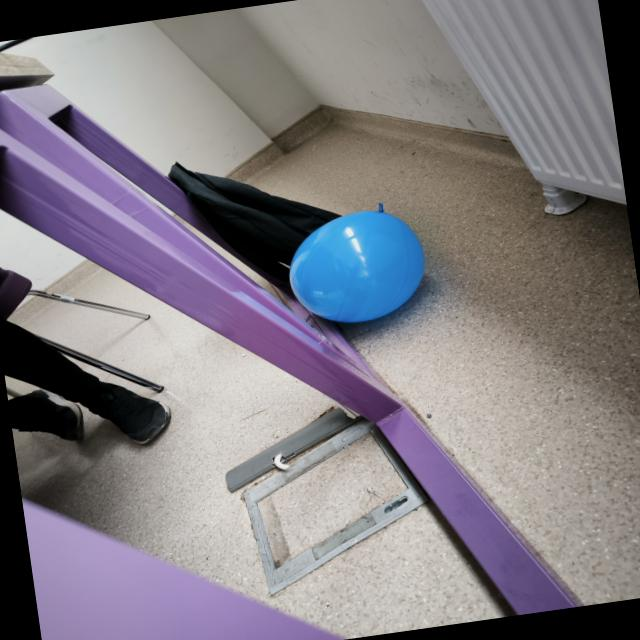balloon: (290, 211, 425, 322)
